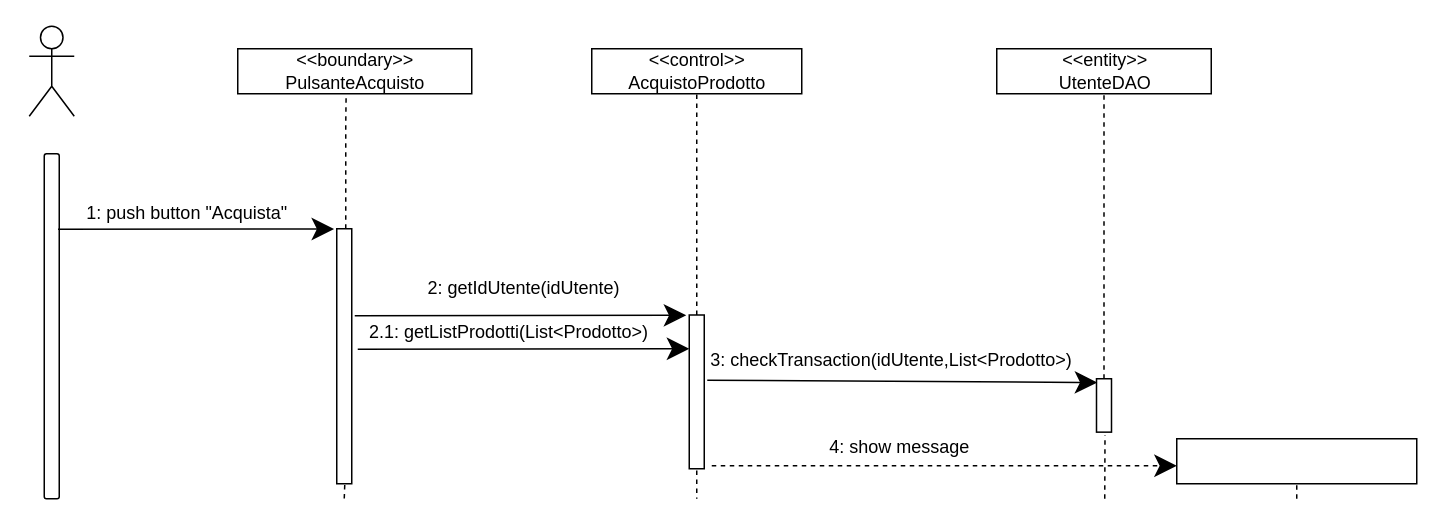
Image size: 1443x527. Some labels were removed from this diagram. The shapes that lost their labels are listed below. From the top down, each one's centre as x and y in pixels, then its label:
point 51,70: Utente
point 1296,460: <<boundary>> NotificaErroreAcquisto
